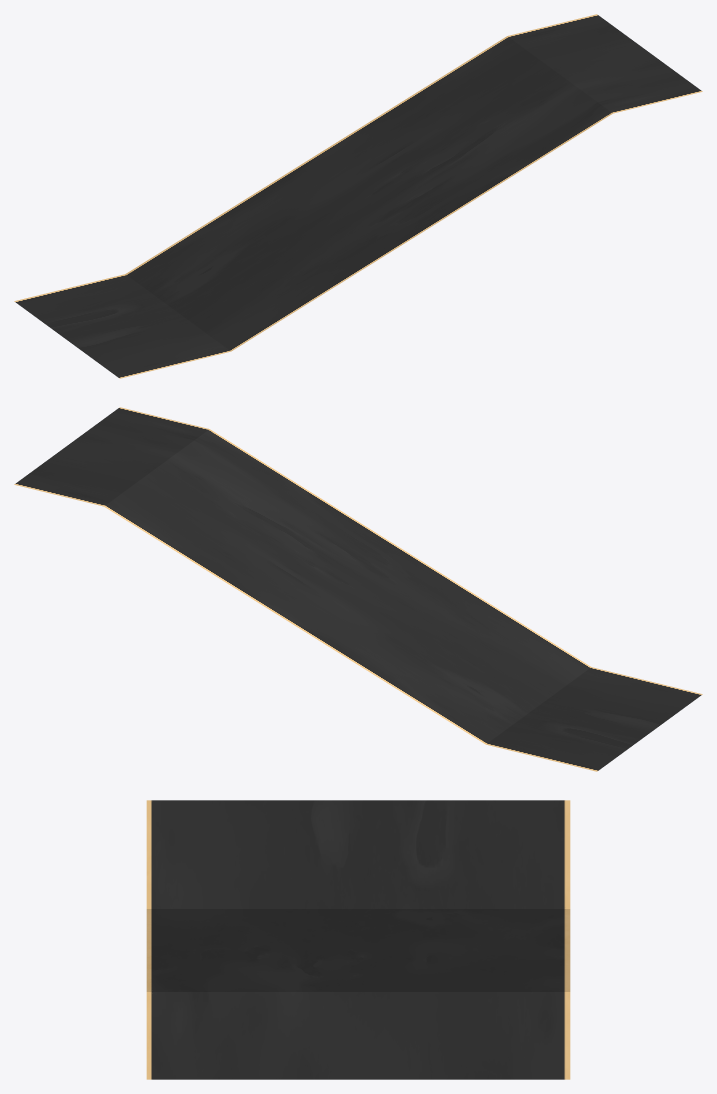
The model's file is HallwayDownFloor.glb.
3 renders of one model, top to bottom at view 1: azimuth 30°, elevation 25°; view 2: azimuth 150°, elevation 25°; view 3: azimuth 270°, elevation 25°, orthographic. The views are drawn at different scales.
Parts seen in each view (by area): view 1: HALLWAYMIDDLE.001; view 2: HALLWAYMIDDLE.001; view 3: HALLWAYMIDDLE.001.
Boxes of the visible parts, x1,y1,x2,y2 form: HALLWAYMIDDLE.001: (14, 14, 702, 378); HALLWAYMIDDLE.001: (14, 407, 702, 771); HALLWAYMIDDLE.001: (146, 800, 570, 1079).
Bounding box in the file's own units: 36.66 × 8.7 × 11.54.
Materials: 1 (1 with a texture image).
